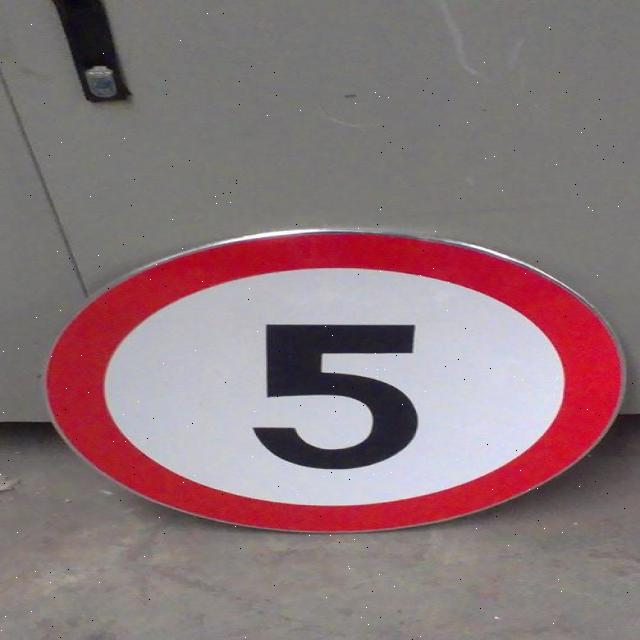speed limit 10: (44, 229, 631, 538)
